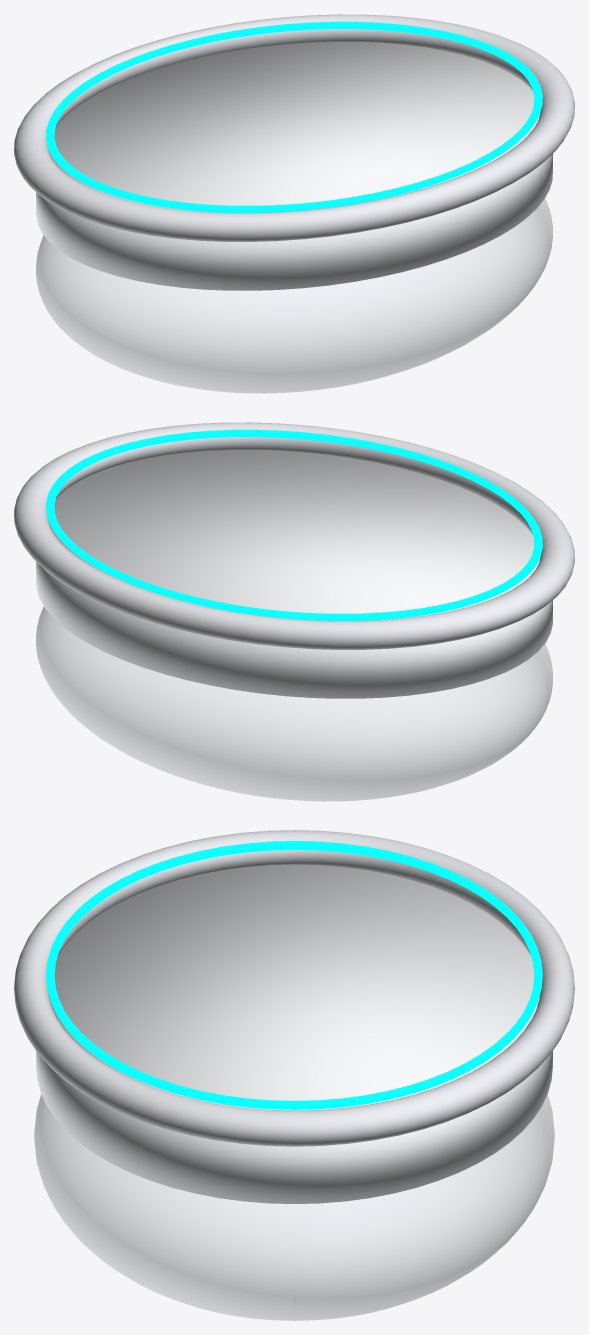
Rendered from concept_3_airpebble_touch.glb.
The picture shows the model from 3 angles, top to bottom: view 1: azimuth 30°, elevation 25°; view 2: azimuth 150°, elevation 25°; view 3: azimuth 270°, elevation 25°; orthographic projection. The views are drawn at different scales.
Parts seen in each view (by area): view 1: AirPebble_CeramicBase, AirPebble_FrostedGlass_Dome, AirPebble_RotaryDial_Knurled, AirPebble_CyanHalo; view 2: AirPebble_CeramicBase, AirPebble_FrostedGlass_Dome, AirPebble_RotaryDial_Knurled, AirPebble_CyanHalo; view 3: AirPebble_CeramicBase, AirPebble_FrostedGlass_Dome, AirPebble_RotaryDial_Knurled, AirPebble_CyanHalo.
Boxes of the visible parts, left/top/right/bottom form: AirPebble_CeramicBase: left=36, top=41, right=552, bottom=290; AirPebble_FrostedGlass_Dome: left=36, top=199, right=552, bottom=393; AirPebble_RotaryDial_Knurled: left=14, top=14, right=574, bottom=241; AirPebble_CyanHalo: left=46, top=21, right=542, bottom=212; AirPebble_CeramicBase: left=36, top=449, right=552, bottom=698; AirPebble_FrostedGlass_Dome: left=36, top=607, right=552, bottom=801; AirPebble_RotaryDial_Knurled: left=14, top=422, right=574, bottom=649; AirPebble_CyanHalo: left=46, top=429, right=542, bottom=620; AirPebble_CeramicBase: left=36, top=864, right=552, bottom=1203; AirPebble_FrostedGlass_Dome: left=34, top=1094, right=554, bottom=1320; AirPebble_RotaryDial_Knurled: left=14, top=830, right=574, bottom=1146; AirPebble_CyanHalo: left=46, top=841, right=542, bottom=1109.
Bounding box in the file's own units: 0.0738 × 0.0332 × 0.0586.
